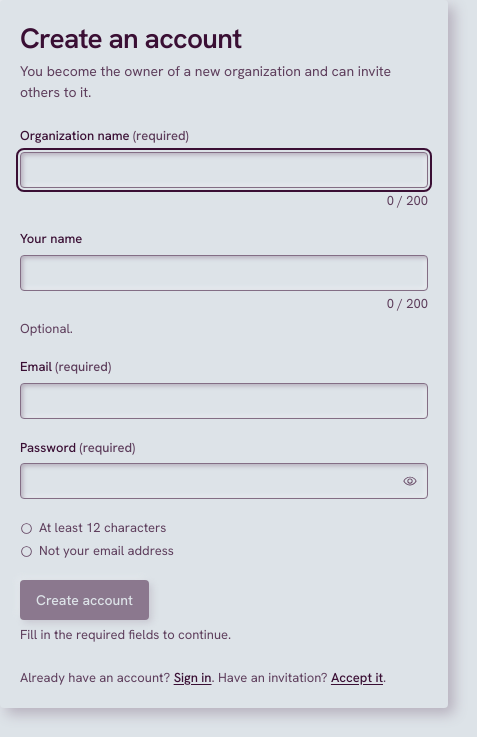
RegisterForm › keeps the button disabled until the form is valid and says why
Expected: the button "Create account" is disabled, [20, 580, 149, 620]
Expected: the text "Fill in the required fields to continue." is shown, [20, 626, 231, 645]
Type "Sam Labs" into the field labelled "Organization name (required)" at (224, 170), box [20, 152, 428, 188]
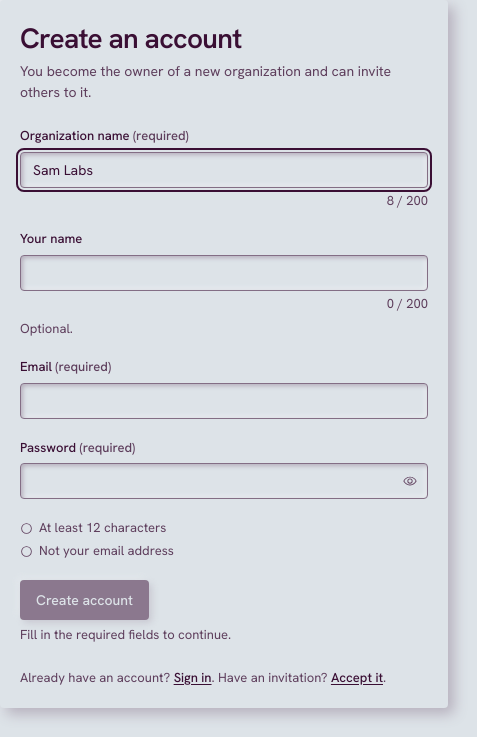
Type "sam@example.test" into the field labelled "Email (required)" at (224, 401), box [20, 383, 428, 419]
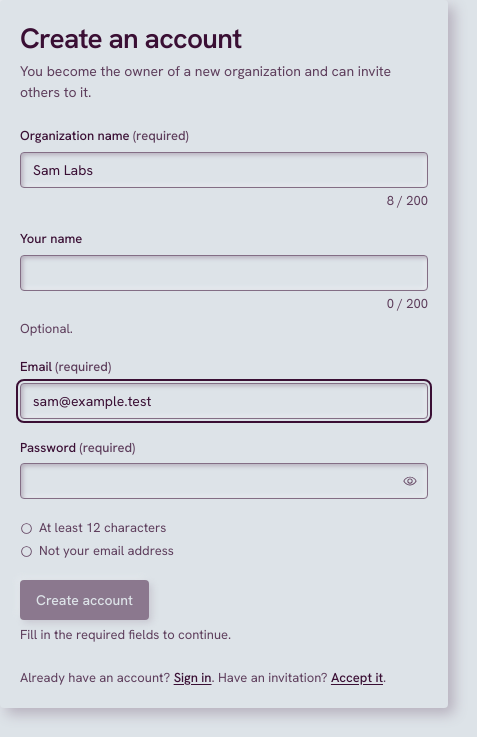
Type "correct horse battery staple" into the password field labelled "Password (required)" at (224, 481), box [20, 463, 428, 499]
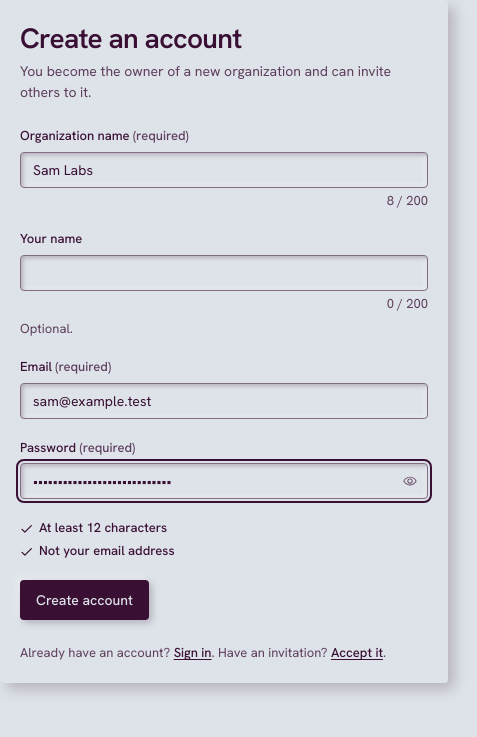
Now the button "Create account" is enabled, box [20, 580, 149, 620]
